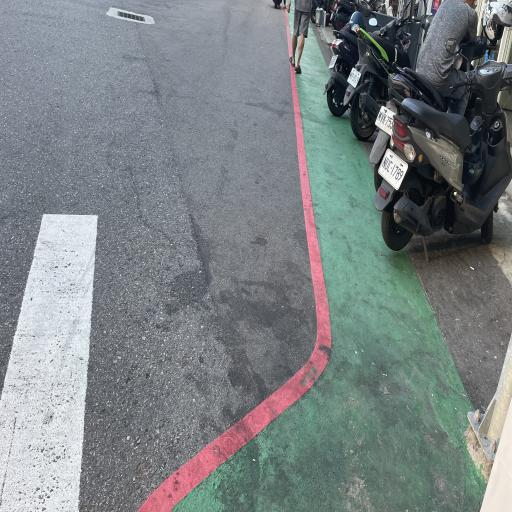redline: (121, 0, 344, 510)
